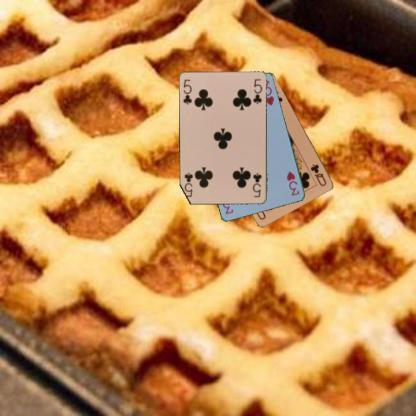3h: (284, 168, 301, 198)
5c: (250, 170, 263, 198), (181, 77, 193, 106)
Qc: (308, 162, 328, 188)
